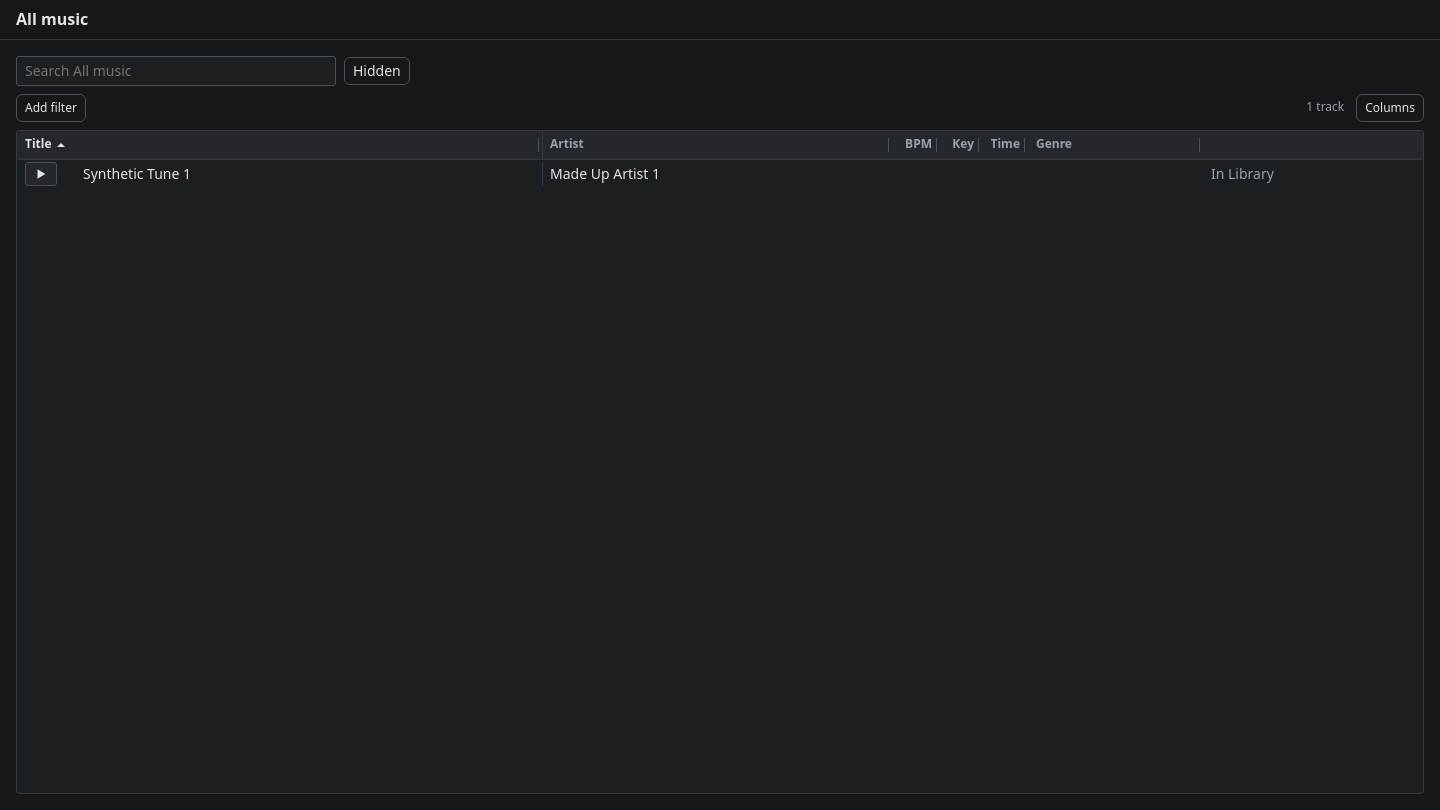
the Hidden filter in All music › asks for the list a window at a time and shows more on request
Step 1. Click the button "Hidden" → [377, 71], box [344,57,410,85]
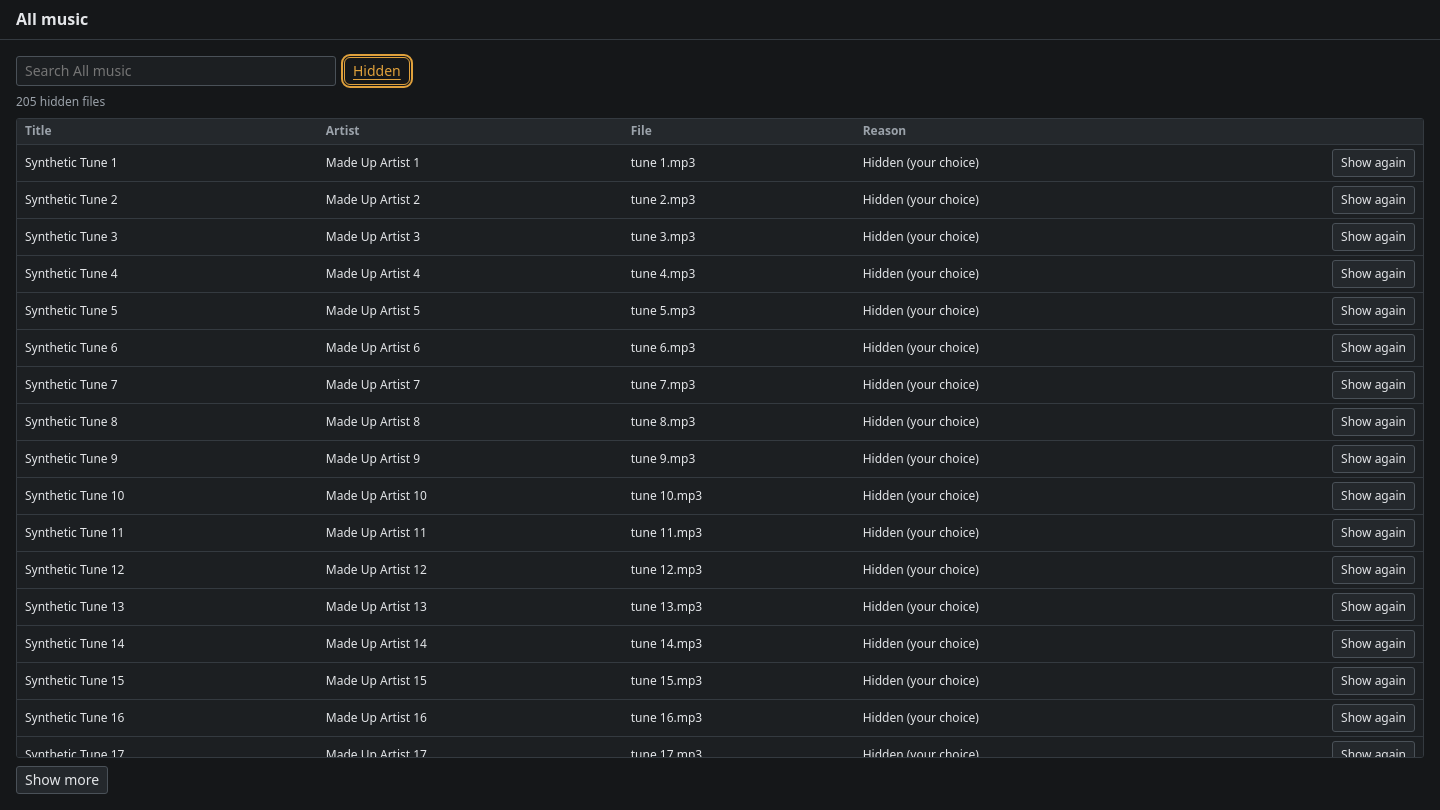
Step 2. Click the button "Show more" → [62, 780], box [16,766,108,794]
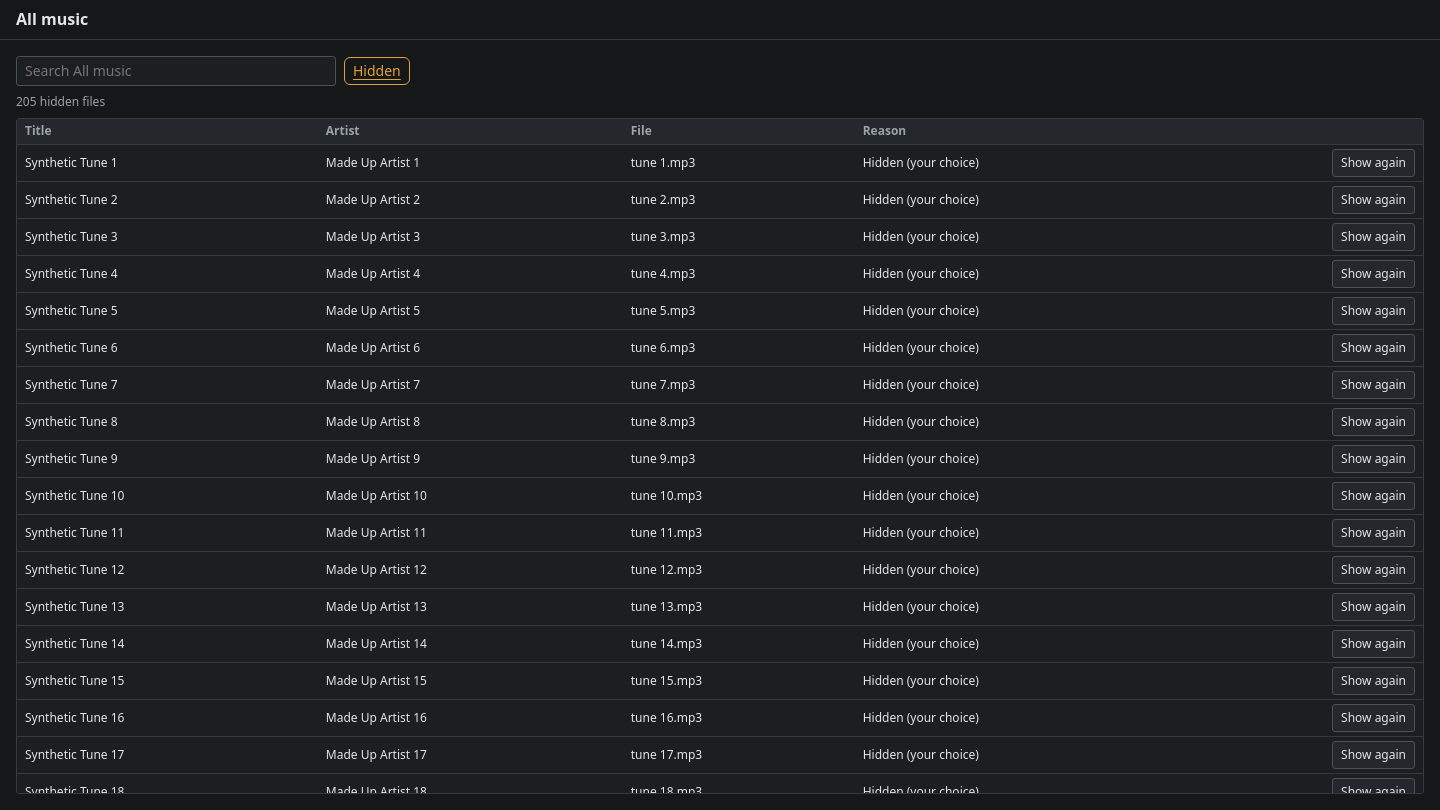
Result: the button "Show more" is gone
